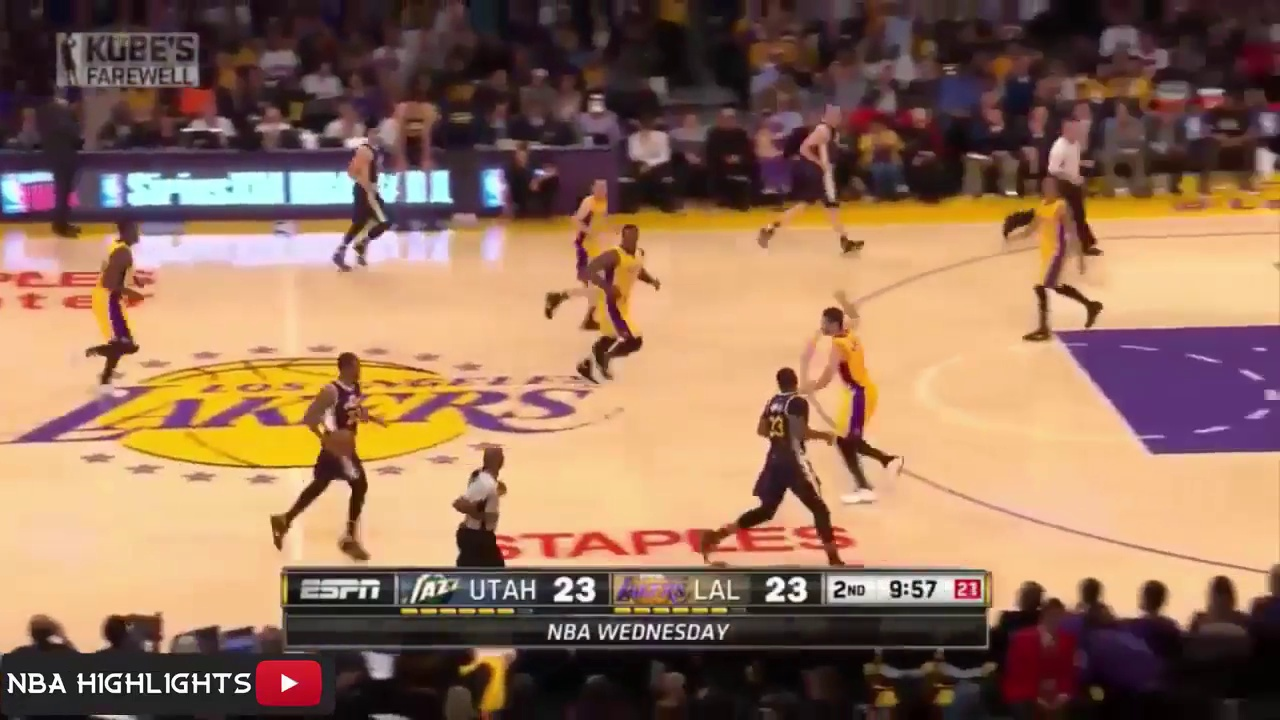jazz: (709, 365, 853, 570), (270, 349, 390, 563), (760, 107, 864, 254), (326, 122, 401, 273)
lakers: (809, 304, 911, 501), (1002, 173, 1109, 353), (76, 220, 163, 400), (549, 181, 624, 333), (590, 223, 657, 381)
